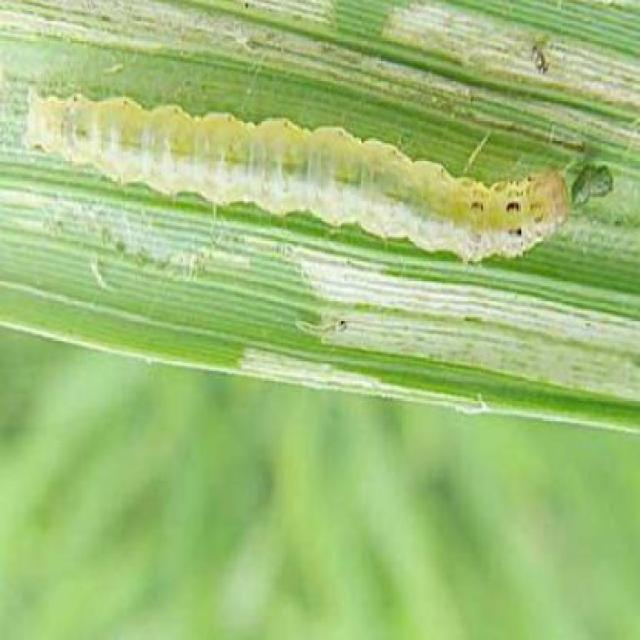leaf-folder: (18, 38, 619, 284)
